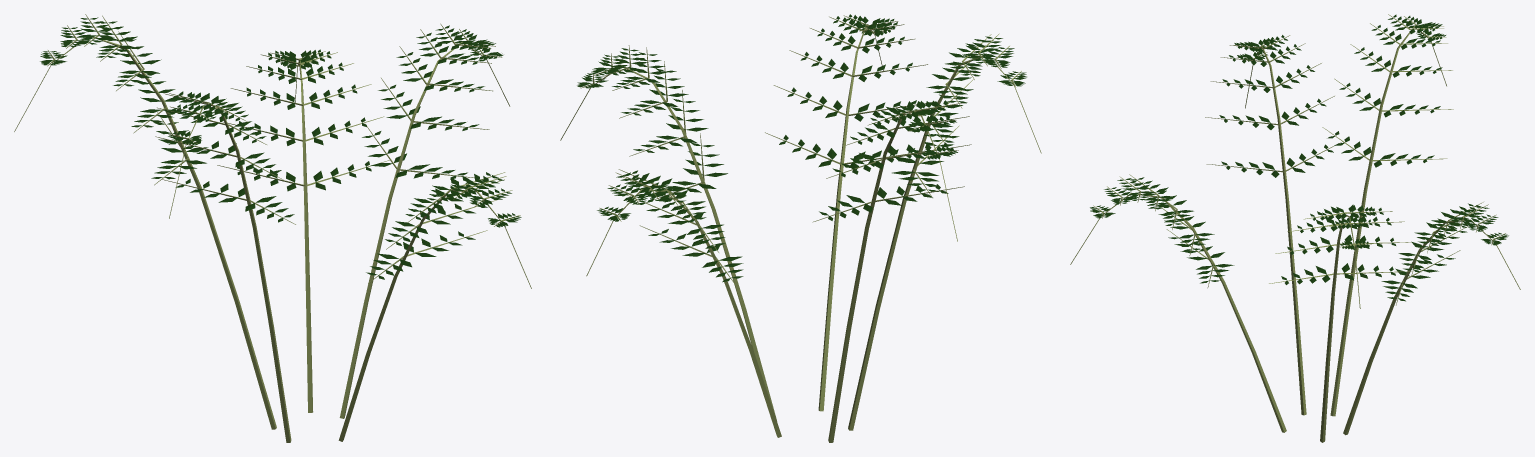
File: Bracken_Clump_01_LOD1.fbx
3 views of the same model, side by side, from view 1: azimuth 30°, elevation 25°; view 2: azimuth 150°, elevation 25°; view 3: azimuth 270°, elevation 25° (orthographic). The views are drawn at different scales.
Parts seen in each view (by area): view 1: Bracken_Clump_01_LOD1_Mesh; view 2: Bracken_Clump_01_LOD1_Mesh; view 3: Bracken_Clump_01_LOD1_Mesh.
Boxes of the visible parts, box(x1,y1,x2,y2) form: Bracken_Clump_01_LOD1_Mesh: box(14, 14, 531, 442); Bracken_Clump_01_LOD1_Mesh: box(560, 14, 1041, 442); Bracken_Clump_01_LOD1_Mesh: box(1070, 14, 1520, 442).
Bounding box in the file's own units: 119 × 102 × 123.
